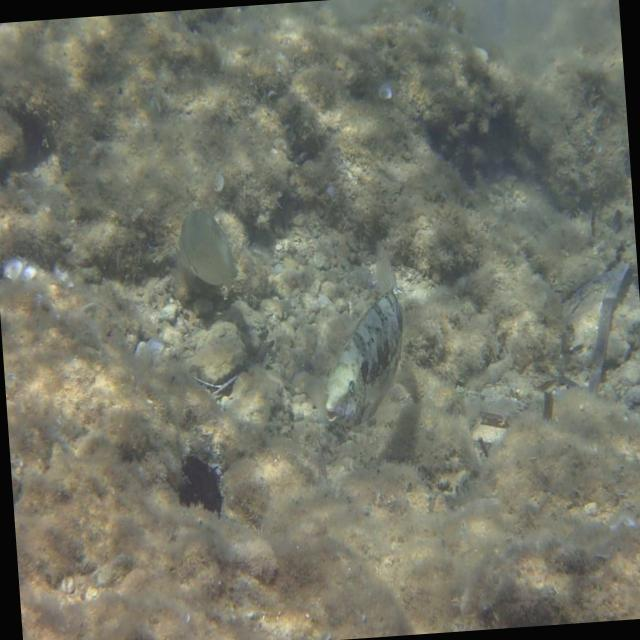Sokar Baligi: (304, 228, 420, 444), (160, 185, 250, 302)
